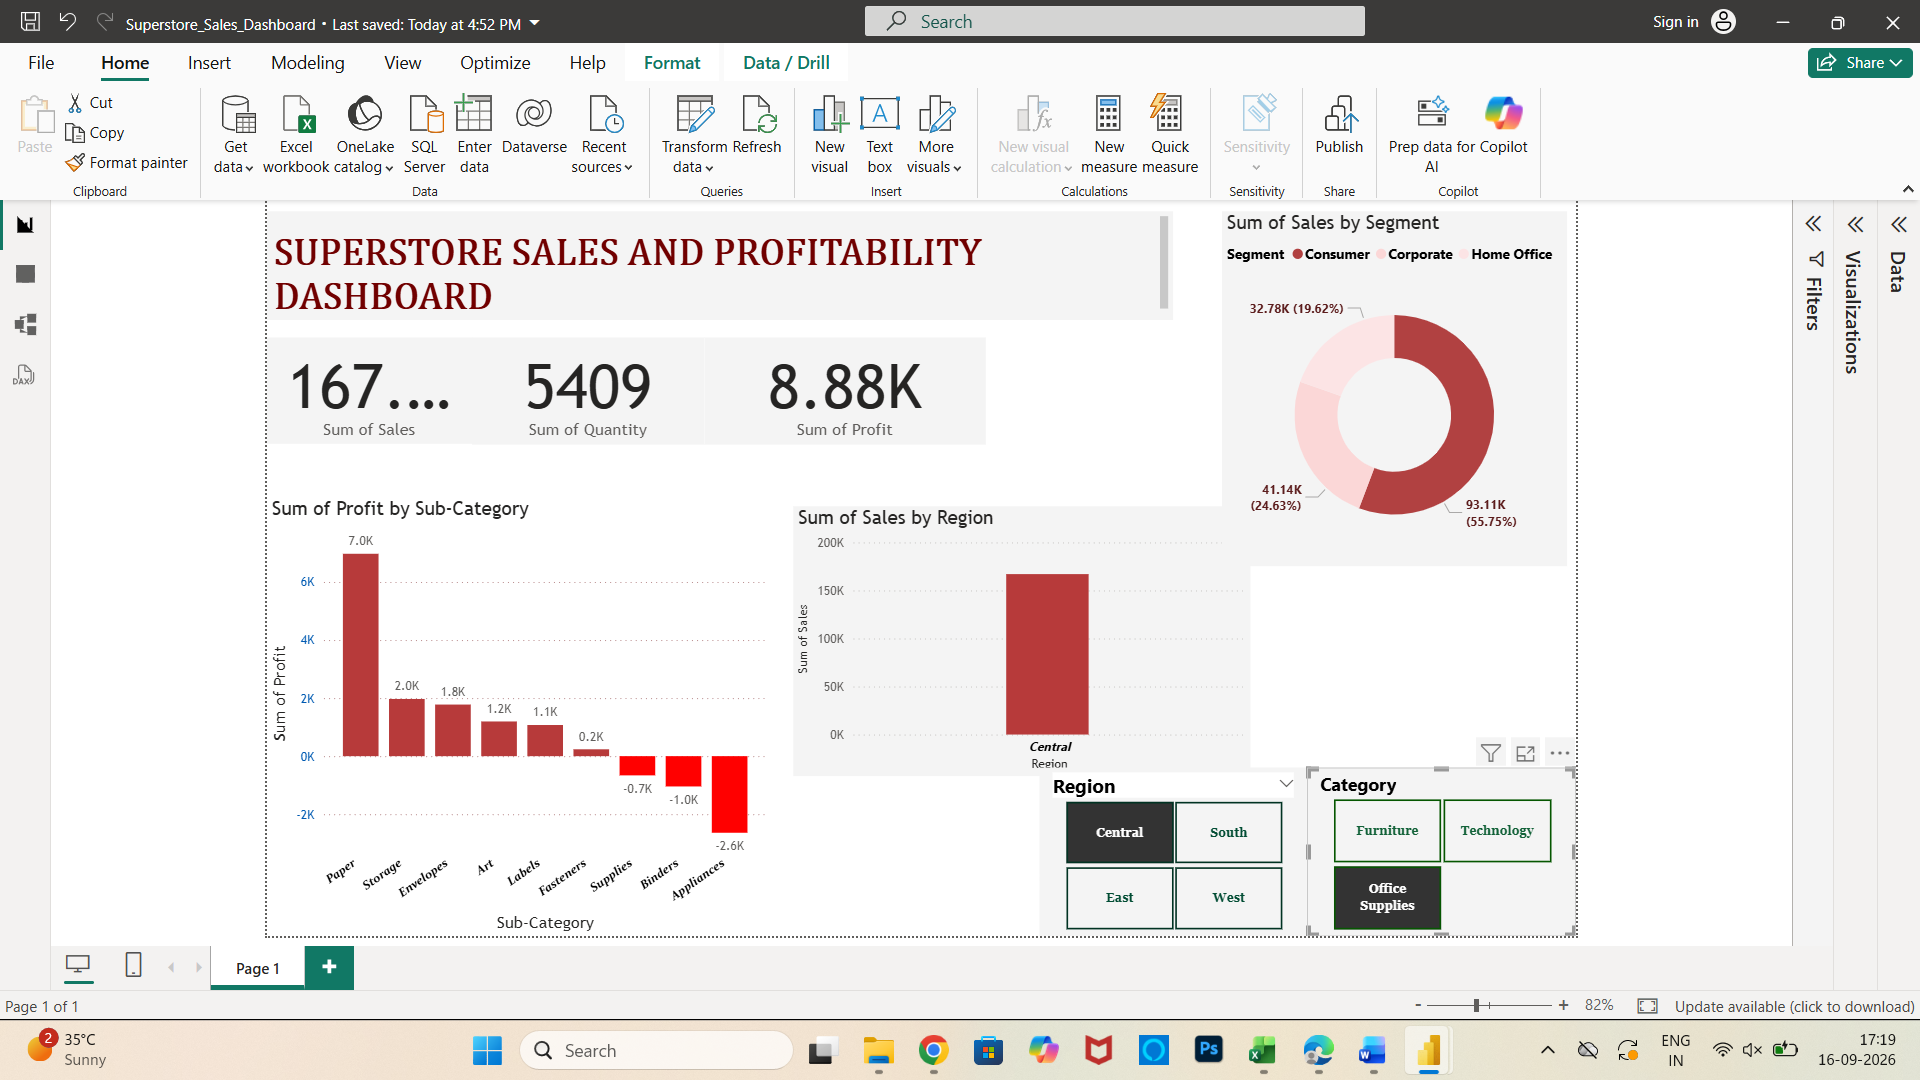

Layout of this report page (visuals, bound fields, positions):
{"tool":"powerbi","page":{"name":"Page 1","canvas":[1280,720],"ordinal":0},"visuals":[{"type":"card","fields":{"Values":["Sum(SampleSuperstore.Sales)"]},"box":[0,134.5,200.5,103.9],"z":0},{"type":"card","fields":{"Values":["Sum(SampleSuperstore.Quantity)"]},"box":[200.5,134.5,227.4,105.2],"z":1000},{"type":"card","fields":{"Values":["Sum(SampleSuperstore.Profit)"]},"box":[428,134.5,275.1,105.2],"z":2000},{"type":"clusteredColumnChart","fields":{"Category":["SampleSuperstore.Sub-Category"],"Y":["Sum(SampleSuperstore.Profit)"]},"box":[0,291,494,429.2],"z":3000},{"type":"clusteredColumnChart","fields":{"Category":["SampleSuperstore.Region"],"Y":["Sum(SampleSuperstore.Sales)"]},"box":[514.8,299.6,447.6,264.1],"z":4000},{"type":"donutChart","fields":{"Category":["SampleSuperstore.Segment"],"Y":["Sum(SampleSuperstore.Sales)"]},"box":[934.2,11,337.5,347.3],"z":5000},{"type":"slicer","fields":{"Values":["SampleSuperstore.Region"]},"box":[755.7,555.2,261.7,165.1],"z":5001},{"type":"slicer","fields":{"Values":["SampleSuperstore.Category"]},"box":[1017.4,555.2,262.9,165.1],"z":5002},{"type":"textbox","box":[0,11,886.6,106.4],"z":5003}]}

Visuals, with their boxes on the page's 1280x720 design canvas (x1, y1, x2, y2). These are canvas units, not pixel positions in the 1920x1080 screenshot, which may show the page scaled, cropped or inside an application window:
card - Sum(SampleSuperstore.Sales): (0,134,200,238)
card - Sum(SampleSuperstore.Quantity): (200,134,428,240)
card - Sum(SampleSuperstore.Profit): (428,134,703,240)
clusteredColumnChart - SampleSuperstore.Sub-Category x Sum(SampleSuperstore.Profit): (0,291,494,720)
clusteredColumnChart - SampleSuperstore.Region x Sum(SampleSuperstore.Sales): (515,300,962,564)
donutChart - SampleSuperstore.Segment x Sum(SampleSuperstore.Sales): (934,11,1272,358)
slicer - SampleSuperstore.Region: (756,555,1017,720)
slicer - SampleSuperstore.Category: (1017,555,1280,720)
textbox: (0,11,887,117)
